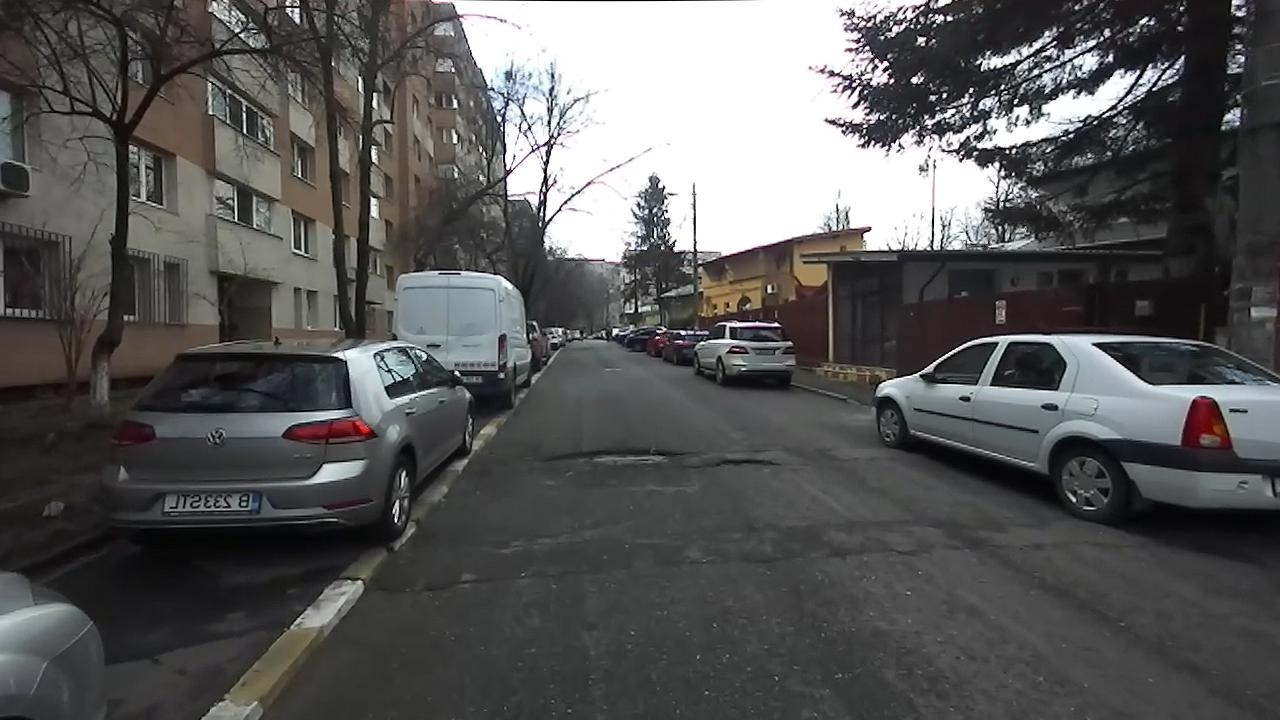pothole: (539, 444, 688, 469), (374, 574, 485, 603), (696, 456, 781, 470)
